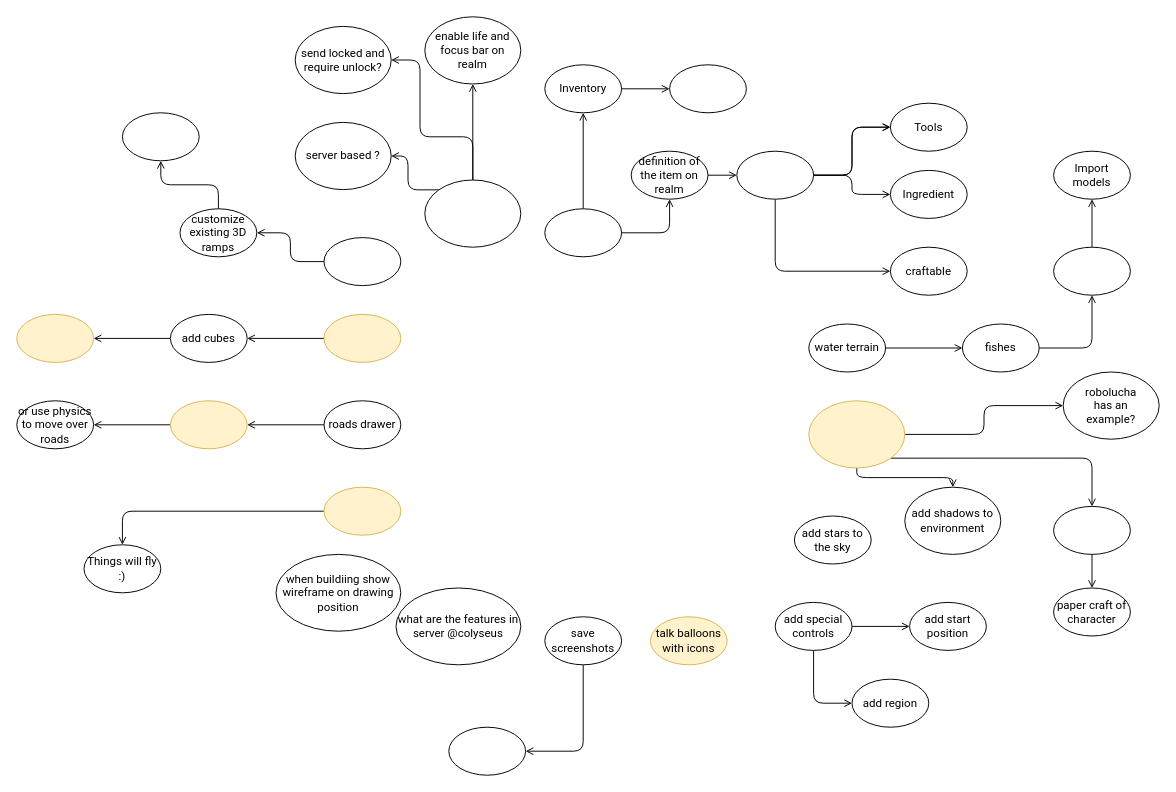
The diagram is 1176 pixels wide and 792 high, and some of its shapes have lost their labels. The centre of each missing label's shape, as x and y in pixels:
add feet and arms to char: the point at 1091,529
Add physics configuration to items: the point at 362,510
basic forms: the point at 362,337
change camera to follow without turn: the point at 856,434
Define on babylonjs file format?: the point at 160,136
how to make realm no editable?: the point at 472,213
in game cameras: the point at 487,750
items: the point at 583,232
minecraft textures: the point at 55,337
model with movement will do it: the point at 1091,270
ramps: the point at 362,261
remove colision from roads: the point at 208,424
save on server?: the point at 707,88
what type of items exist?: the point at 775,174
